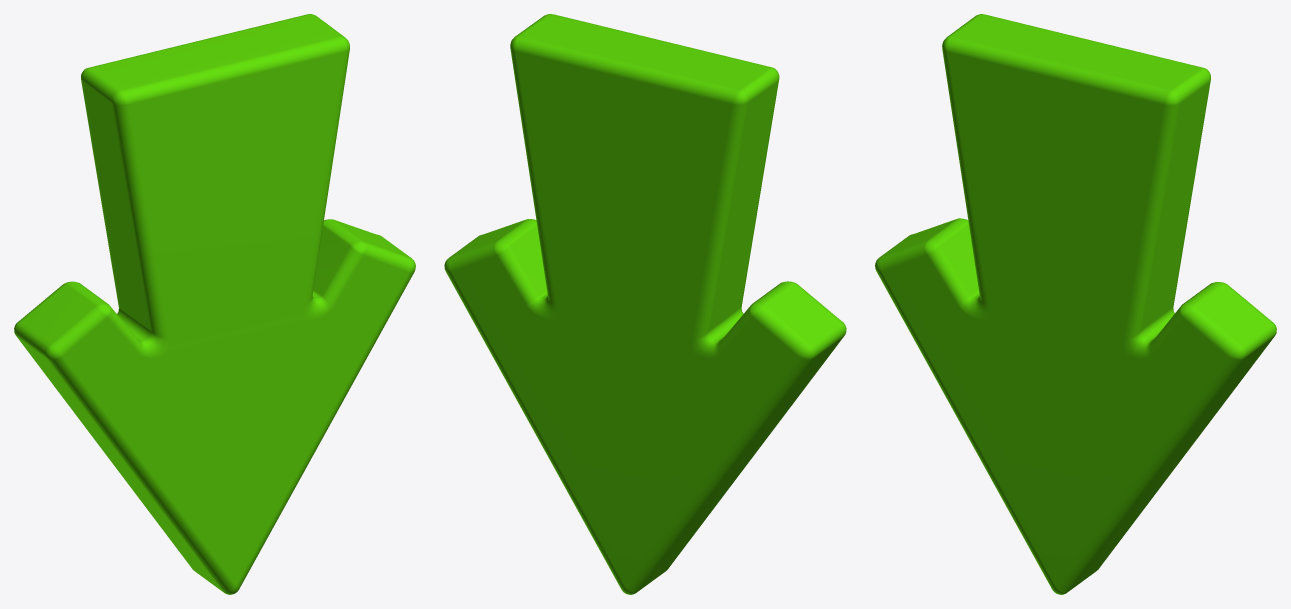
The model's file is castle_arrow.fbx.
The picture shows the model from 3 angles, left to right: view 1: azimuth 30°, elevation 25°; view 2: azimuth 150°, elevation 25°; view 3: azimuth 330°, elevation 25°; orthographic projection.
Visible parts, largest first — view 1: castle_arrow; view 2: castle_arrow; view 3: castle_arrow.
Boxes of the visible parts, x1,y1,x2,y2 form: castle_arrow: (14, 14, 415, 594); castle_arrow: (444, 14, 846, 594); castle_arrow: (875, 14, 1276, 594).
Bounding box in the file's own units: 0.8693 × 1.19 × 0.1689.
